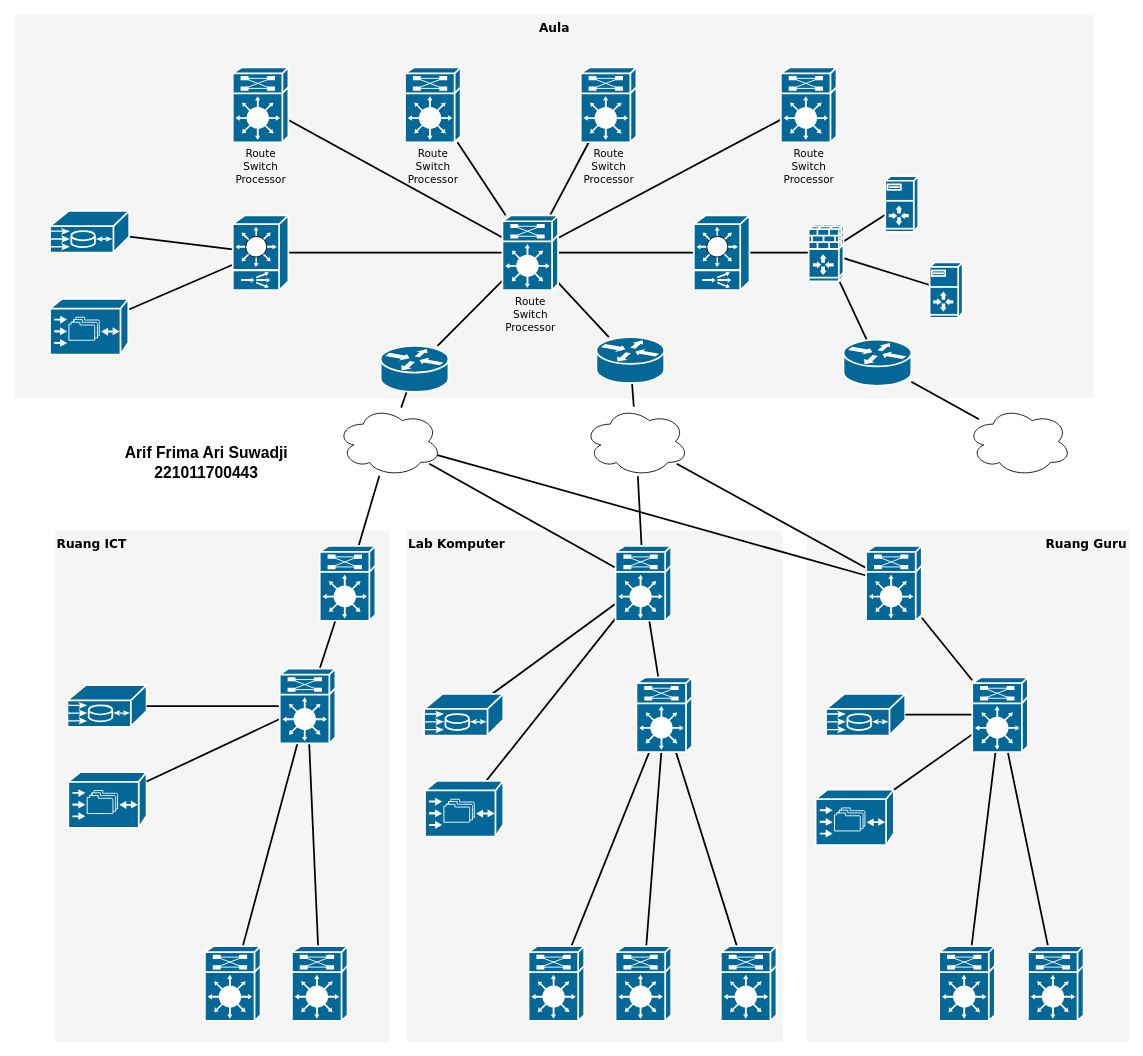
Some shapes in this 1143 by 1056 pixel diagram are drawn without their labels. Here are the shapes that lost their labels. From the top down, the centre of each, then its label:
pixel 389 441: LAN
pixel 636 441: Cloud
pixel 1018 441: Internet
